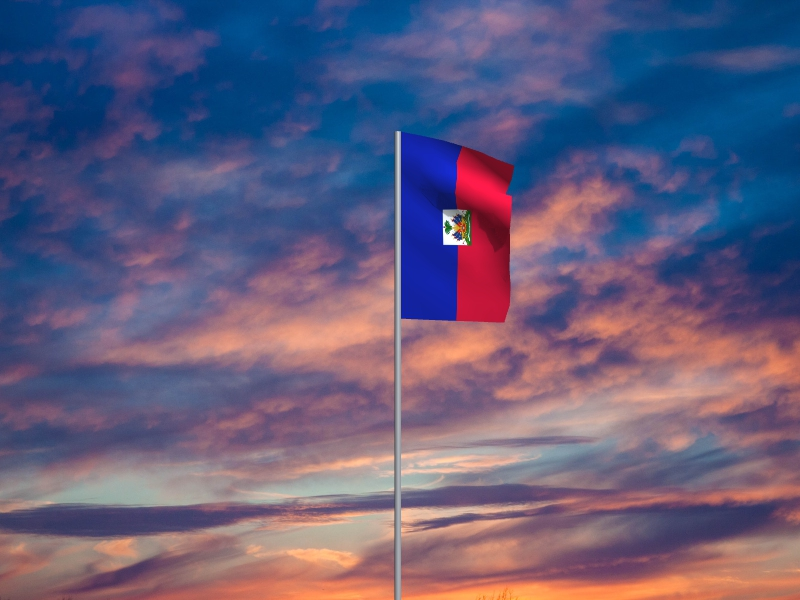ht: (402, 133, 515, 324)
